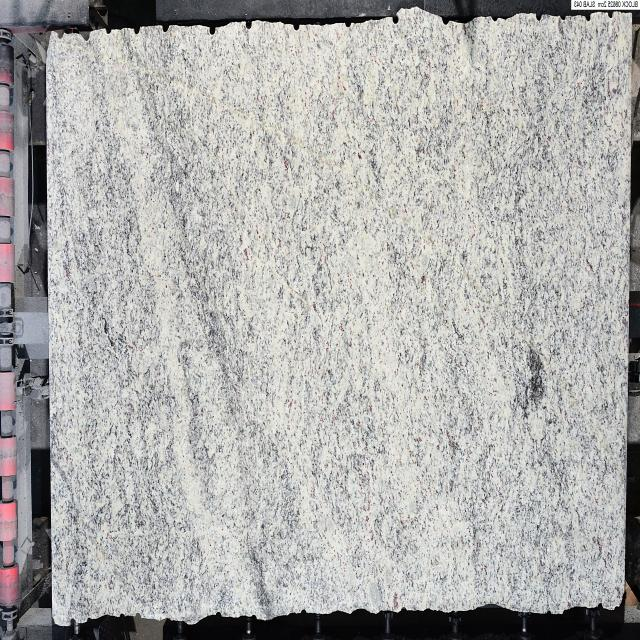chapa: (48, 10, 631, 626)
